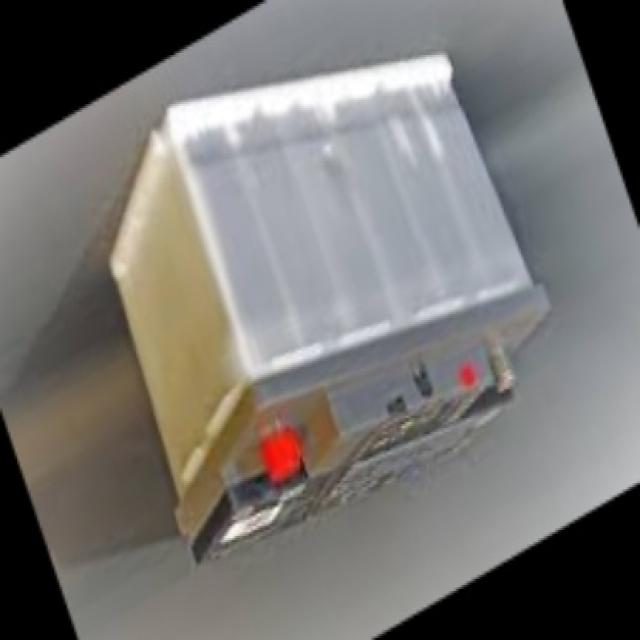elektronik: (106, 56, 554, 560)
